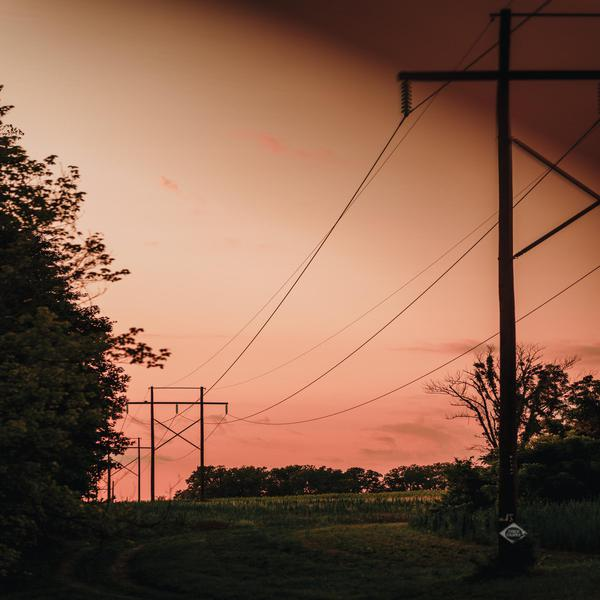utility_pole: (384, 2, 600, 181), (122, 380, 180, 434), (177, 379, 232, 430)
